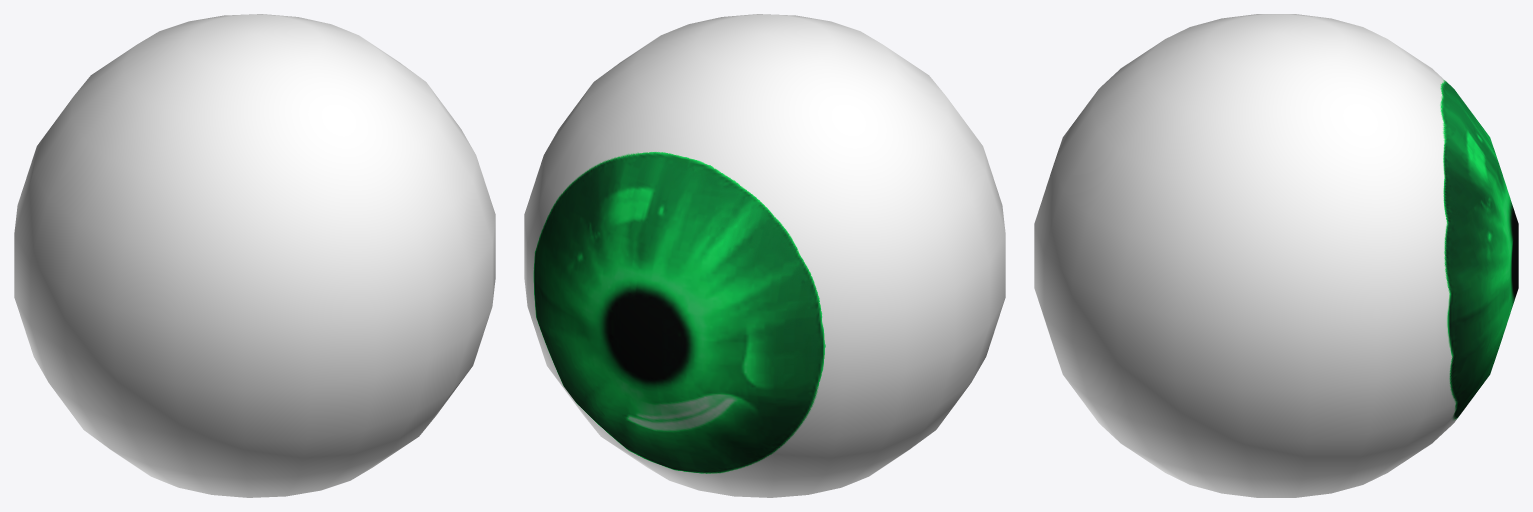
The model's file is WatchPlayers.FBX.
The picture shows the model from 3 angles, left to right: view 1: azimuth 30°, elevation 25°; view 2: azimuth 150°, elevation 25°; view 3: azimuth 270°, elevation 25°; orthographic projection.
Visible parts, largest first — view 1: EDITOR_Model_WatchPlayers; view 2: EDITOR_Model_WatchPlayers; view 3: EDITOR_Model_WatchPlayers.
Part boxes in pixels (bbox=[...]): EDITOR_Model_WatchPlayers: bbox=[14, 14, 495, 497]; EDITOR_Model_WatchPlayers: bbox=[524, 14, 1005, 497]; EDITOR_Model_WatchPlayers: bbox=[1034, 14, 1518, 497].
Size of the model in its own units: 27.63 by 28.2 by 27.92.
1 material, 1 textured.
